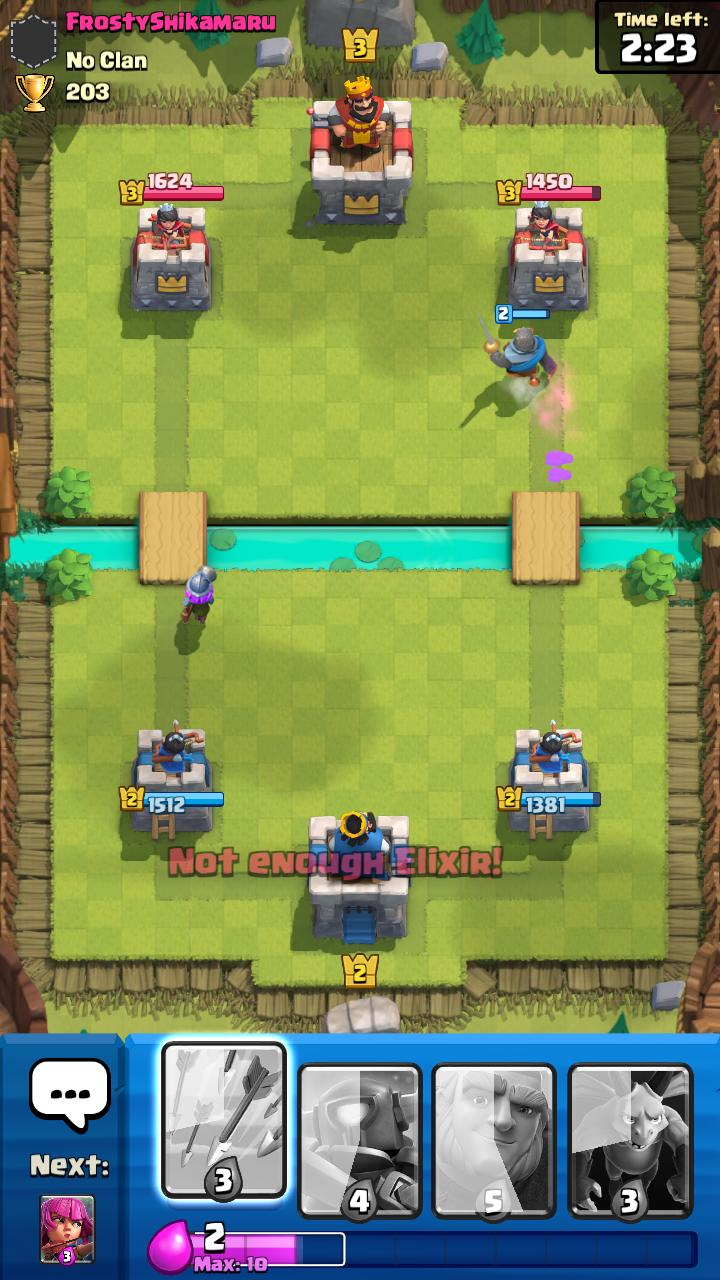ally: (478, 304, 558, 387), (182, 566, 217, 624)
